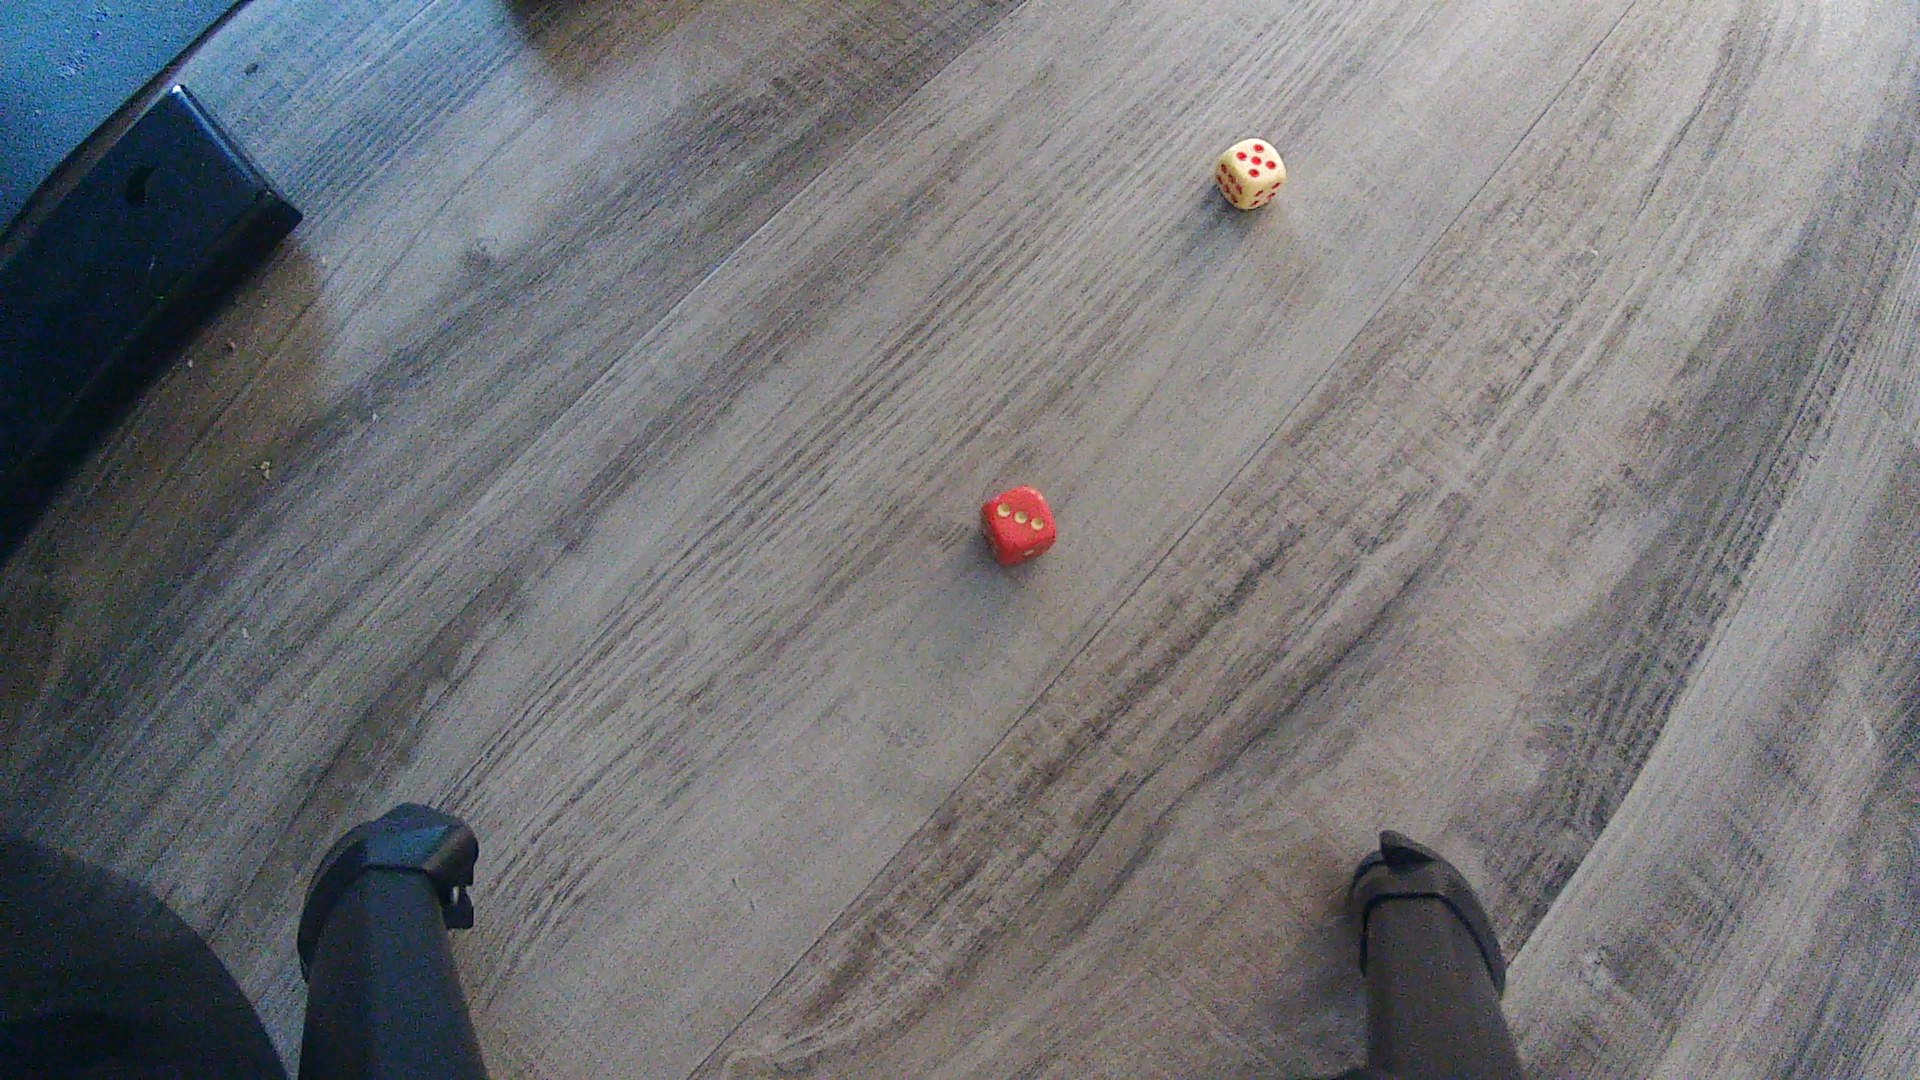die: (978, 483, 1058, 570), (1213, 136, 1288, 211)
